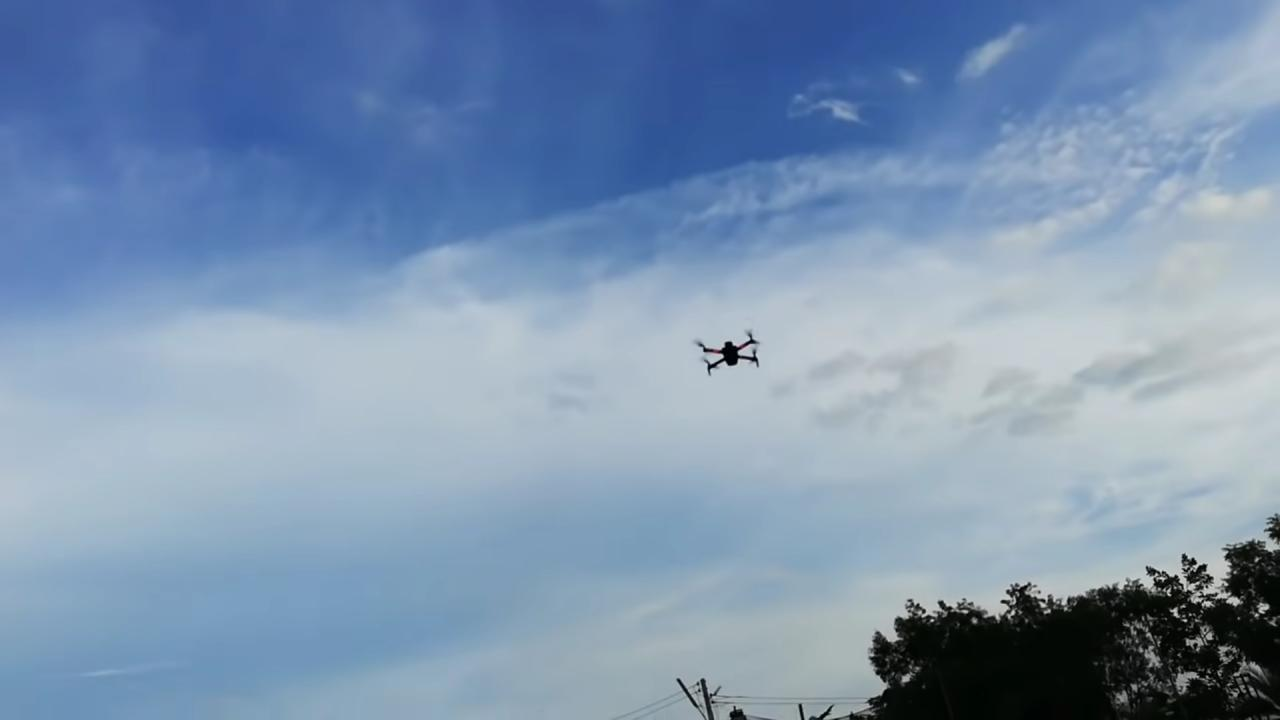Drone: (682, 320, 771, 386)
